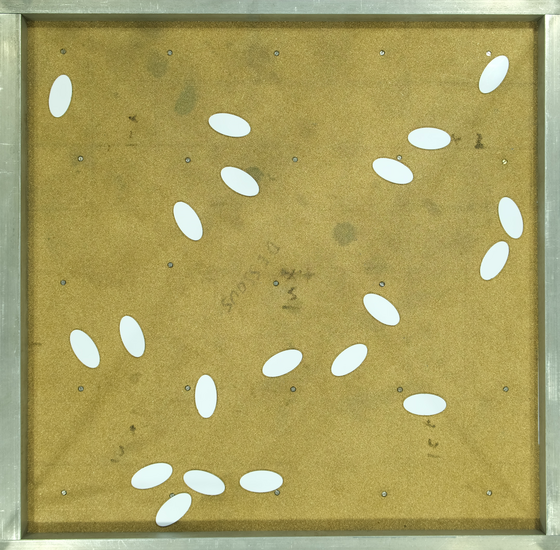pallet: (166, 198, 211, 244), (491, 194, 536, 240), (469, 236, 514, 282), (359, 285, 404, 331), (36, 73, 81, 119), (259, 338, 304, 384), (63, 326, 108, 372), (107, 312, 152, 358), (472, 51, 517, 97), (407, 115, 452, 161), (370, 150, 415, 196), (216, 159, 261, 205), (208, 104, 253, 150), (147, 488, 192, 534), (129, 450, 174, 496), (239, 458, 284, 504), (400, 381, 445, 427), (327, 339, 372, 385), (181, 372, 226, 418), (181, 457, 226, 503)
